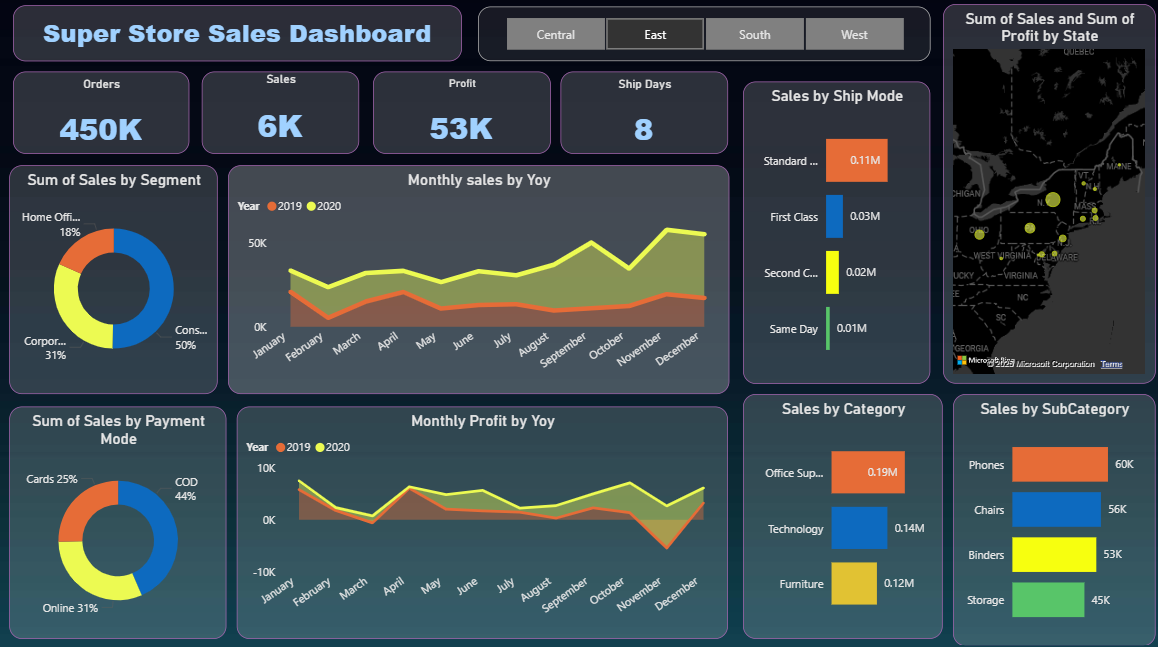

What the dashboard file says about the page in this screenshot:
{"tool":"powerbi","page":{"name":"Page 1","canvas":[1280,720],"ordinal":0},"visuals":[{"type":"clusteredBarChart","title":"Sales by Category","fields":{"Category":["SuperStore_Sales_Dataset.Category"],"Y":["Sum(SuperStore_Sales_Dataset.Sales)"]},"box":[817.8,433.6,219.6,269],"z":0},{"type":"clusteredBarChart","title":"Sales by SubCategory","fields":{"Category":["SuperStore_Sales_Dataset.Sub-Category"],"Y":["Sum(SuperStore_Sales_Dataset.Sales)"]},"box":[1048.4,433.6,222.3,277.2],"z":1000},{"type":"clusteredBarChart","title":"Sales by Ship Mode","fields":{"Category":["SuperStore_Sales_Dataset.Ship Mode","SuperStore_Sales_Dataset.Sub-Category"],"Y":["Sum(SuperStore_Sales_Dataset.Sales)"]},"box":[817.8,90.6,205.8,332.1],"z":2000},{"type":"stackedAreaChart","title":"Monthly sales by Yoy","fields":{"Category":["SuperStore_Sales_Dataset.Order Date.Variation.Date Hierarchy.Month","SuperStore_Sales_Dataset.Order Date.Variation.Date Hierarchy.Day"],"Y":["Sum(SuperStore_Sales_Dataset.Sales)"],"Series":["SuperStore_Sales_Dataset.Order Date.Variation.Date Hierarchy.Year"]},"box":[252.5,182.5,550.3,251.1],"z":3000},{"type":"stackedAreaChart","title":"Monthly Profit by Yoy","fields":{"Category":["SuperStore_Sales_Dataset.Order Date.Variation.Date Hierarchy.Month","SuperStore_Sales_Dataset.Order Date.Variation.Date Hierarchy.Day"],"Series":["SuperStore_Sales_Dataset.Order Date.Variation.Date Hierarchy.Year"],"Y":["Sum(SuperStore_Sales_Dataset.Profit)"]},"box":[262.1,447.3,539.3,255.2],"z":4000},{"type":"map","fields":{"Category":["SuperStore_Sales_Dataset.State"],"Size":["Sum(SuperStore_Sales_Dataset.Sales)"]},"box":[1037.4,5.5,233.3,417.2],"z":5000},{"type":"donutChart","fields":{"Category":["SuperStore_Sales_Dataset.Segment"],"Y":["Sum(SuperStore_Sales_Dataset.Sales)"]},"box":[12.3,182.5,229.2,251.1],"z":6000},{"type":"donutChart","fields":{"Category":["SuperStore_Sales_Dataset.Payment Mode"],"Y":["Sum(SuperStore_Sales_Dataset.Sales)"]},"box":[12.3,447.3,238.8,255.2],"z":7000},{"type":"slicer","fields":{"Values":["SuperStore_Sales_Dataset.Region"]},"box":[526.9,8.2,496.7,60.4],"z":8000},{"type":"textbox","box":[16.5,6.9,492.6,61.7],"z":9000},{"type":"cardVisual","title":"Orders","fields":{"Data":["Sum(SuperStore_Sales_Dataset.Sales)"]},"box":[16.5,79.6,193.5,90.6],"z":10000},{"type":"cardVisual","title":"Sales","fields":{"Data":["Sum(SuperStore_Sales_Dataset.Quantity)"]},"box":[223.7,79.6,172.9,90.6],"z":11000},{"type":"cardVisual","title":"Profit","fields":{"Data":["Sum(SuperStore_Sales_Dataset.Profit)"]},"box":[411.7,79.6,194.9,90.6],"z":12000},{"type":"cardVisual","title":"Ship Days","fields":{"Data":["Avg(SuperStore_Sales_Dataset.AvgDelivery)"]},"box":[617.5,79.6,183.9,90.6],"z":13000}]}

Visuals, with their boxes in screenshot pixels (x1, y1, x2, y2), scaled from the page's 1280x720 canvas onto the 1158x647 screenshot:
"Sales by Category" clusteredBarChart: bbox=(740, 390, 939, 631)
"Sales by SubCategory" clusteredBarChart: bbox=(948, 390, 1150, 639)
"Sales by Ship Mode" clusteredBarChart: bbox=(740, 81, 926, 380)
"Monthly sales by Yoy" stackedAreaChart: bbox=(228, 164, 726, 390)
"Monthly Profit by Yoy" stackedAreaChart: bbox=(237, 402, 725, 631)
map - SuperStore_Sales_Dataset.State x Sum(SuperStore_Sales_Dataset.Sales): bbox=(939, 5, 1150, 380)
donutChart - SuperStore_Sales_Dataset.Segment x Sum(SuperStore_Sales_Dataset.Sales): bbox=(11, 164, 218, 390)
donutChart - SuperStore_Sales_Dataset.Payment Mode x Sum(SuperStore_Sales_Dataset.Sales): bbox=(11, 402, 227, 631)
slicer - SuperStore_Sales_Dataset.Region: bbox=(477, 7, 926, 62)
textbox: bbox=(15, 6, 461, 62)
"Orders" cardVisual: bbox=(15, 72, 190, 153)
"Sales" cardVisual: bbox=(202, 72, 359, 153)
"Profit" cardVisual: bbox=(372, 72, 549, 153)
"Ship Days" cardVisual: bbox=(559, 72, 725, 153)
